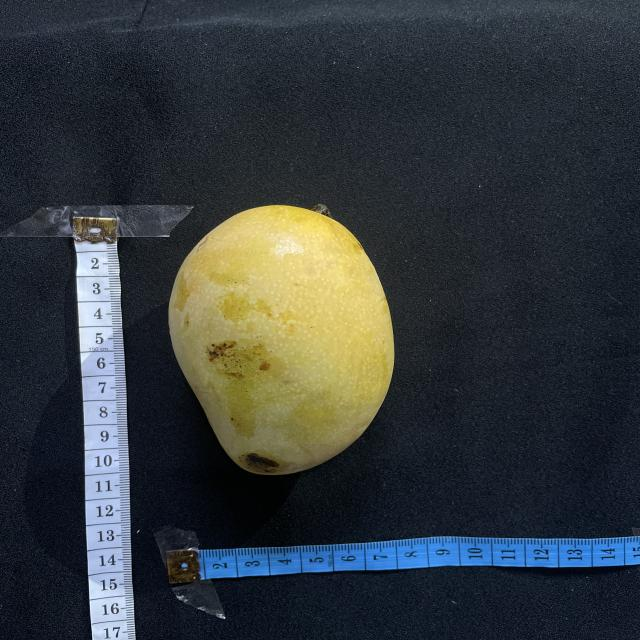Ripe: (169, 205, 394, 475)
